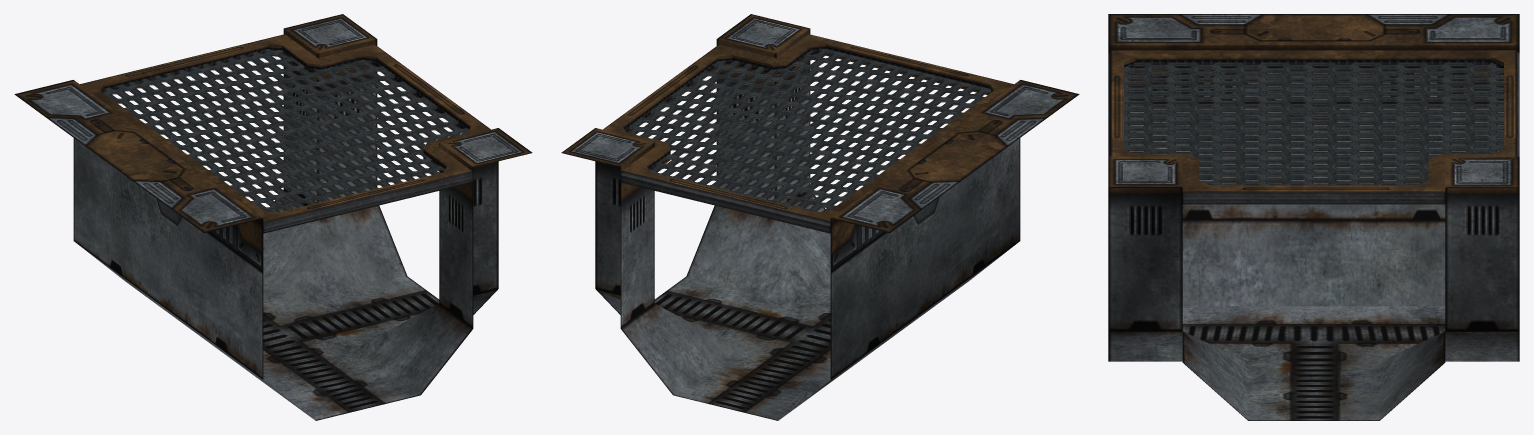
Rendered from tunnel_3way_metal.dae.
3 renders of one model, left to right at view 1: azimuth 30°, elevation 25°; view 2: azimuth 150°, elevation 25°; view 3: azimuth 270°, elevation 25°, orthographic. The views are drawn at different scales.
Visible parts, largest first — view 1: polySurface8, pPlane9, pPlane14; view 2: polySurface8, pPlane9, pPlane14; view 3: polySurface8, pPlane9, pPlane14.
Boxes of the visible parts, x1=… form: polySurface8: x1=14, y1=14, x2=532, y2=420; pPlane9: x1=102, y1=49, x2=468, y2=212; pPlane14: x1=104, y1=51, x2=465, y2=211; polySurface8: x1=561, y1=14, x2=1079, y2=420; pPlane9: x1=628, y1=49, x2=991, y2=212; pPlane14: x1=628, y1=52, x2=991, y2=211; polySurface8: x1=1108, y1=14, x2=1519, y2=420; pPlane9: x1=1124, y1=62, x2=1503, y2=185; pPlane14: x1=1128, y1=64, x2=1503, y2=185.
Bounding box in the file's own units: 2 × 1.25 × 2.
